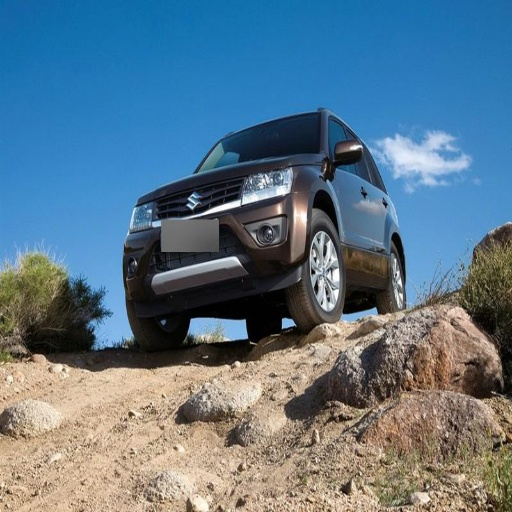front_bumper: (122, 177, 306, 307)
front_glass: (217, 115, 315, 157)
front_left_door: (327, 114, 370, 272)
front_left_light: (243, 168, 292, 204)
